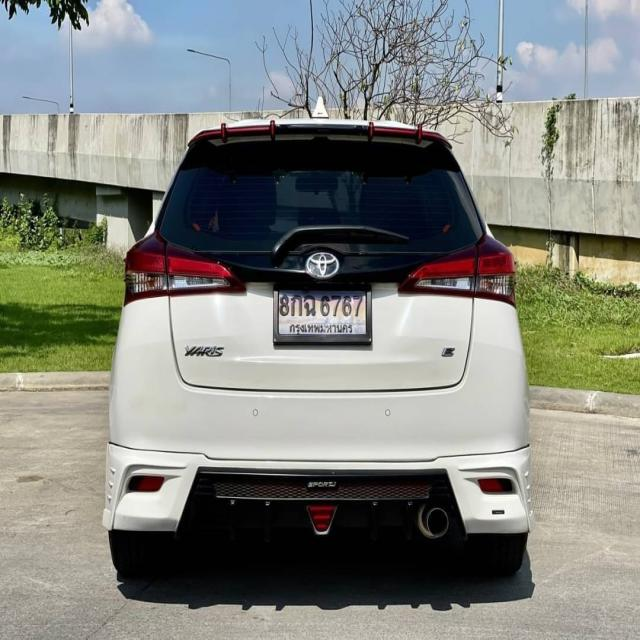license_plate: (272, 280, 374, 345)
